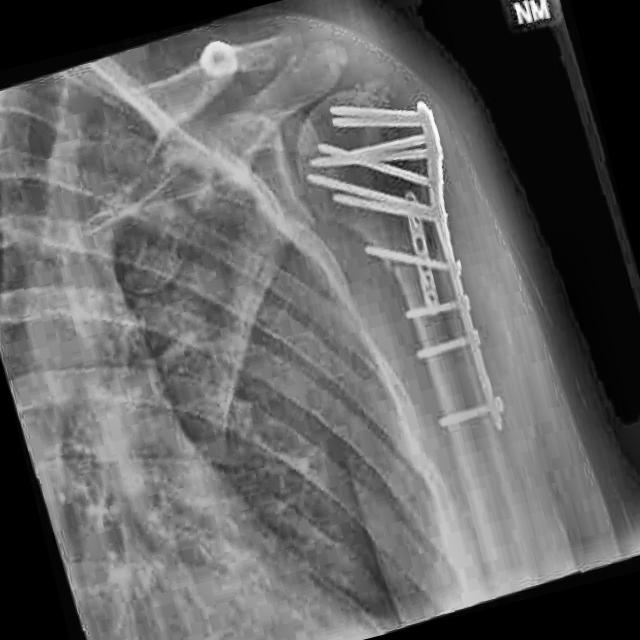shoulder fracture: (373, 252, 418, 296)
